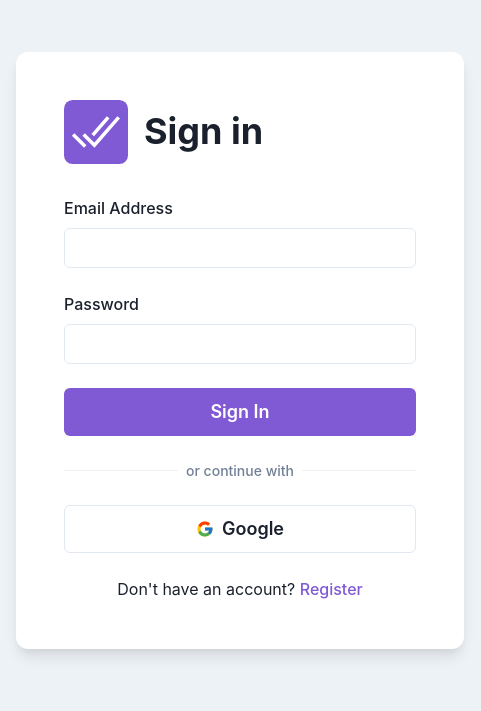
Login with email and password › should show alert error if password not match
Type "foo@gmail.com" into the field labelled "Email Address".
click(240, 248); type("foo@gmail.com")  # box [64,228,416,268]
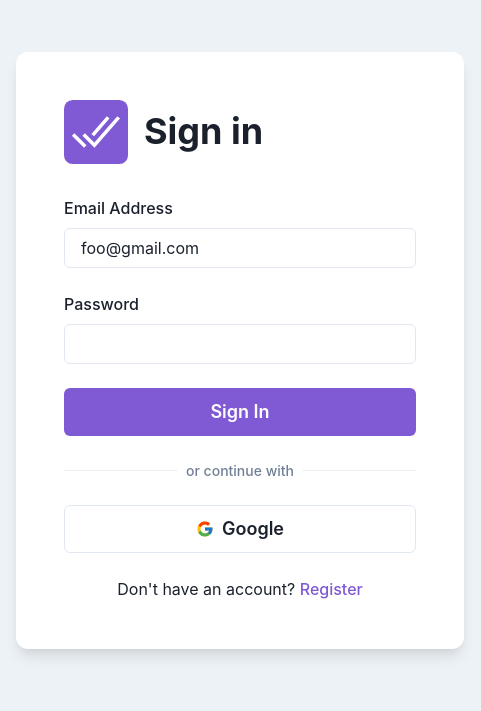
Type "123456" into the password field labelled "Password".
click(240, 344); type("123456")  # box [64,324,416,364]
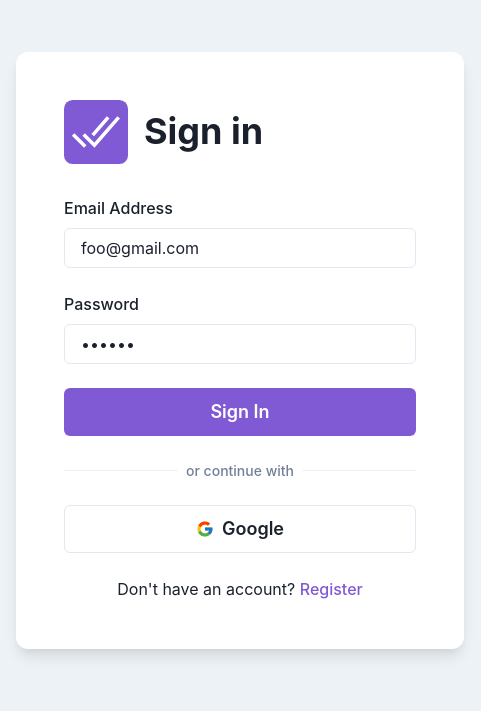
Click the button "Sign In".
click(240, 412)  # box [64,388,416,436]
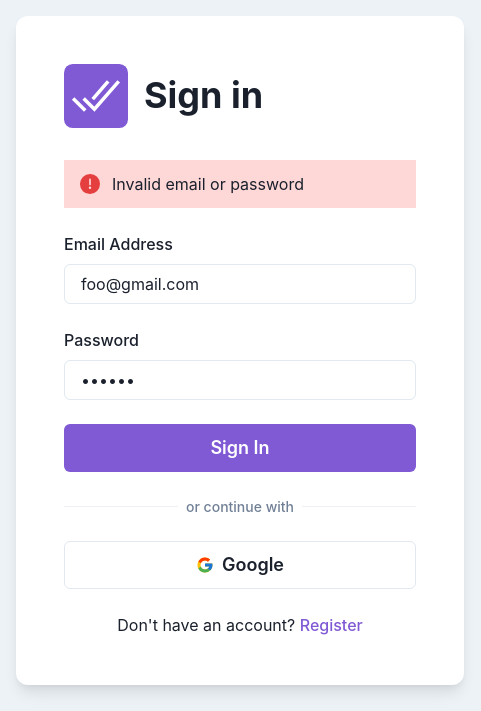
Check: the message named "error" is shown, box [64,160,416,208]
Check: the message named "error" reads "Invalid email or password", box [112,174,304,194]
